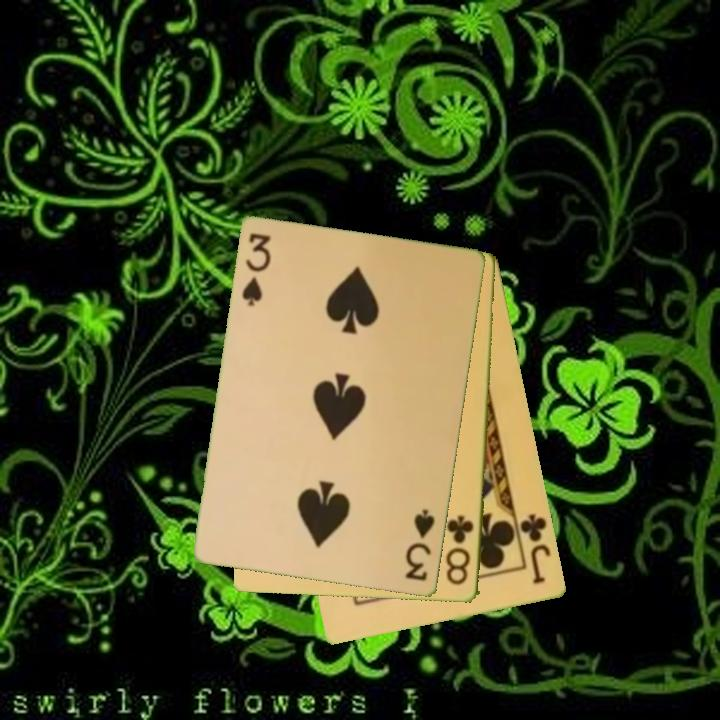3s: (402, 506, 438, 584), (239, 230, 274, 310)
8c: (443, 512, 477, 588)
Jc: (517, 510, 554, 587)
